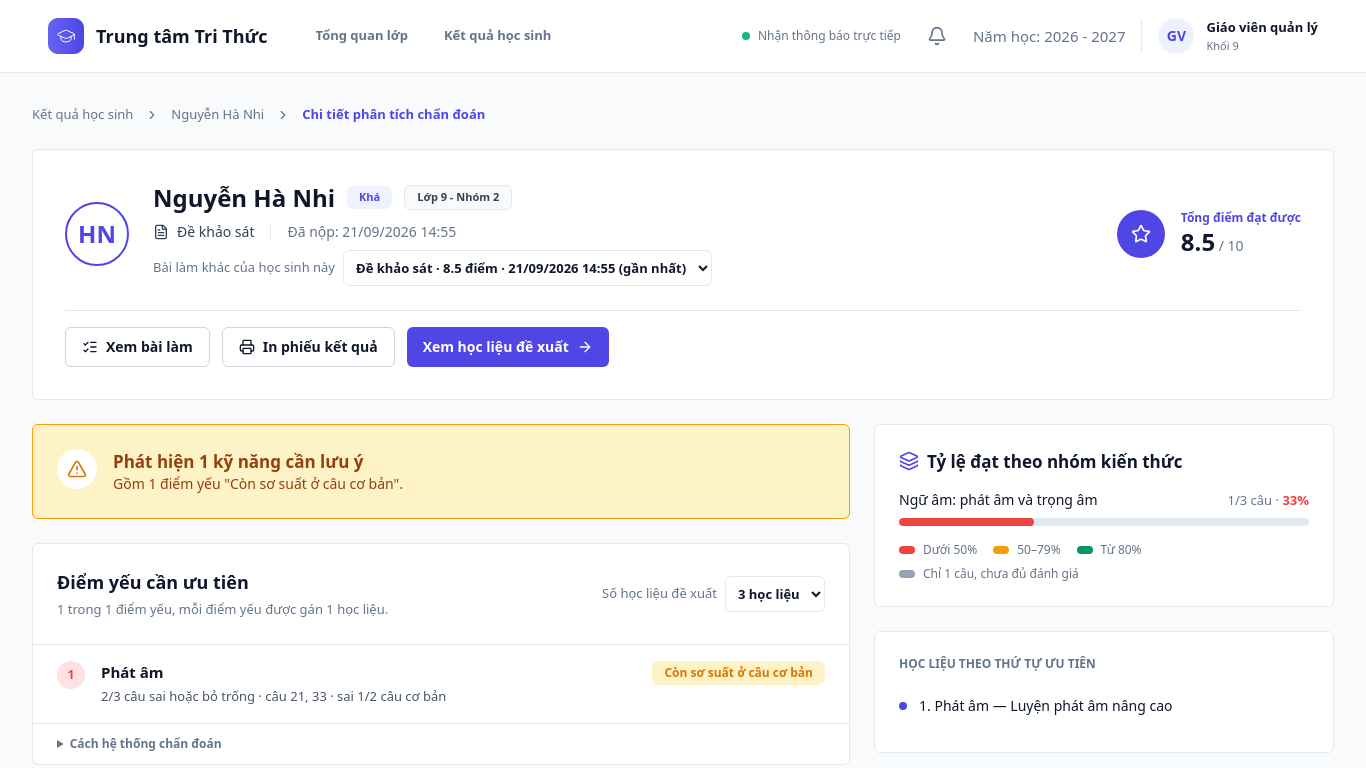
Test: trang chẩn đoán: chuyển sang bài làm khác của cùng học sinh
The image size is (1366, 768).
Select "Đề khảo sát · 6 điểm · 01/09/2026 14:55" in the dropdown labelled "Bài làm khác của học sinh này": point(528, 268) [343,250,712,286]
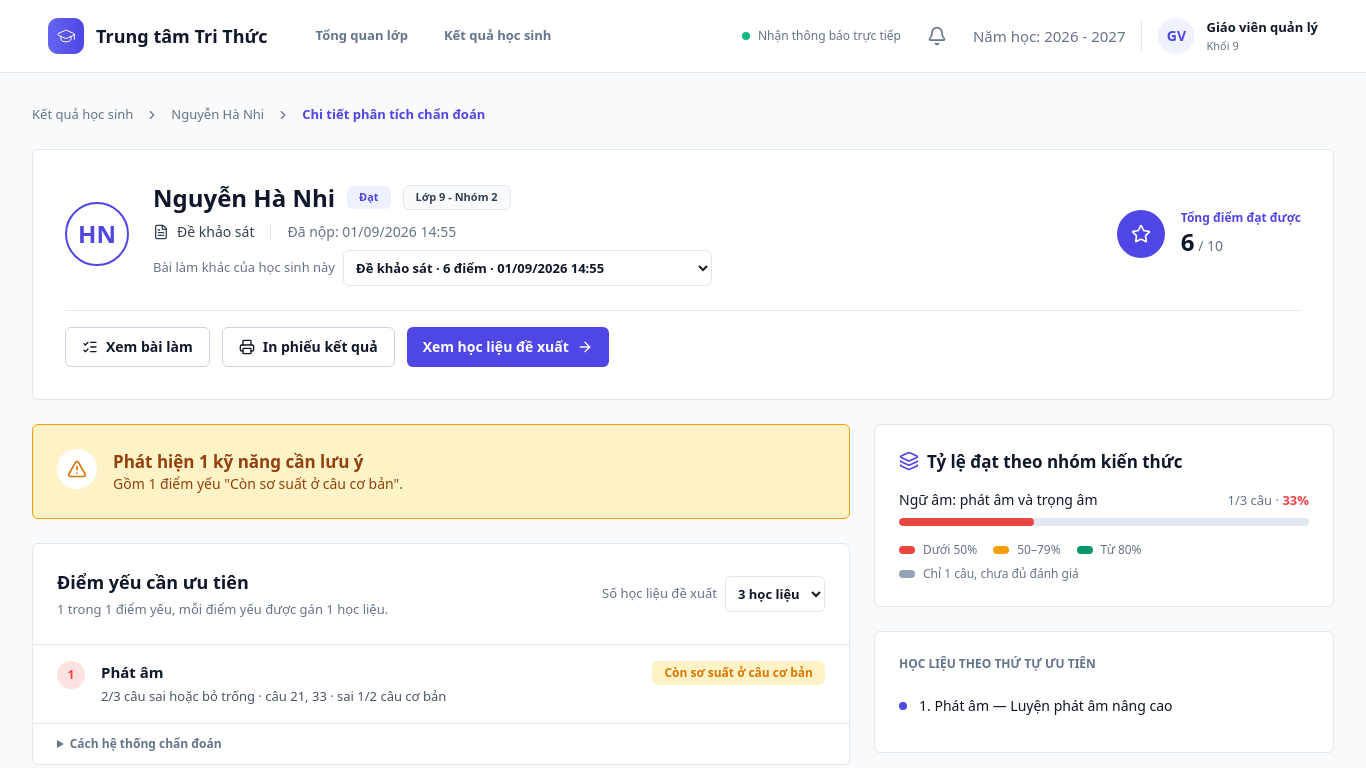
expect the dropdown labelled "Bài làm khác của học sinh này" shows "Đề khảo sát · 6 điểm · 01/09/2026 14:55": met, box [343,250,712,286]
expect the text "6" is shown: met, box [1181,224,1194,258]
